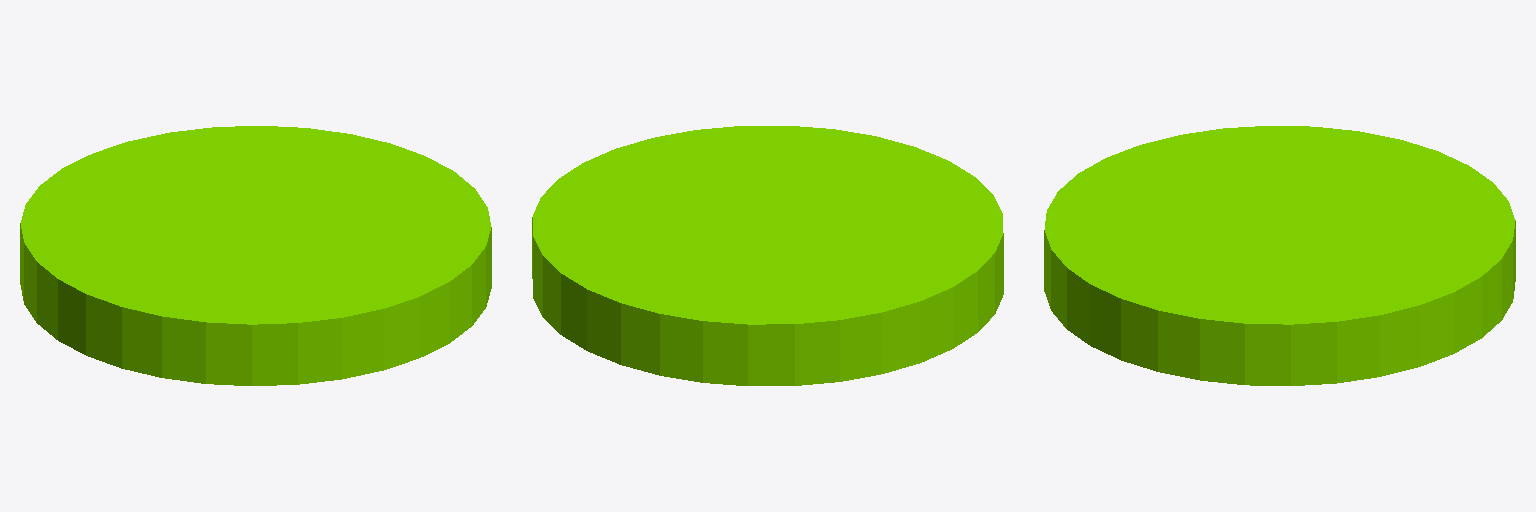
robot.urdf — Interference:
<?xml version="1.0"?>
<robot name="Interference">
  <link name="baseLink">
    <inertial>
      <origin xyz="0.0 0.0 0.0" rpy="0.0 0.0 0.0"/>
      <inertia ixx="0.0" ixy="0.0" ixz="0.0" iyy="0.0" iyz="0.0" izz="0.0"/>
      <mass value="0"/>
    </inertial>
    <visual>
      <origin xyz="0.0 0.0 0.0" rpy="0.0 0.0 -0.34552130137703085"/>
      <geometry>
        <cylinder radius="0.034628862474416114" length="0.01"/>
      </geometry>
      <material name="color">
        <color rgba="0.5653063653902781 0.9128144612477618 0.0076742189677642125 1.0"/>
      </material>
    </visual>
  </link>
</robot>

--- Facts derived from the render (not from the file) ---
The picture shows the robot from 3 angles, left to right: view 1: azimuth 30°, elevation 25°; view 2: azimuth 150°, elevation 25°; view 3: azimuth 270°, elevation 25°; orthographic projection.
Model Interference with 1 links and 0 joints (none), rooted at baseLink, posed every joint at zero.
Links seen in each view (by area): view 1: baseLink; view 2: baseLink; view 3: baseLink.
Boxes of the visible links, <box> form: baseLink: <box>20,126,491,385</box>; baseLink: <box>532,126,1003,385</box>; baseLink: <box>1044,126,1515,385</box>.
Size in the robot's own frame: 0.0692 by 0.0692 by 0.01 metres.
Geometry: primitives only (box / cylinder / sphere), no mesh files.